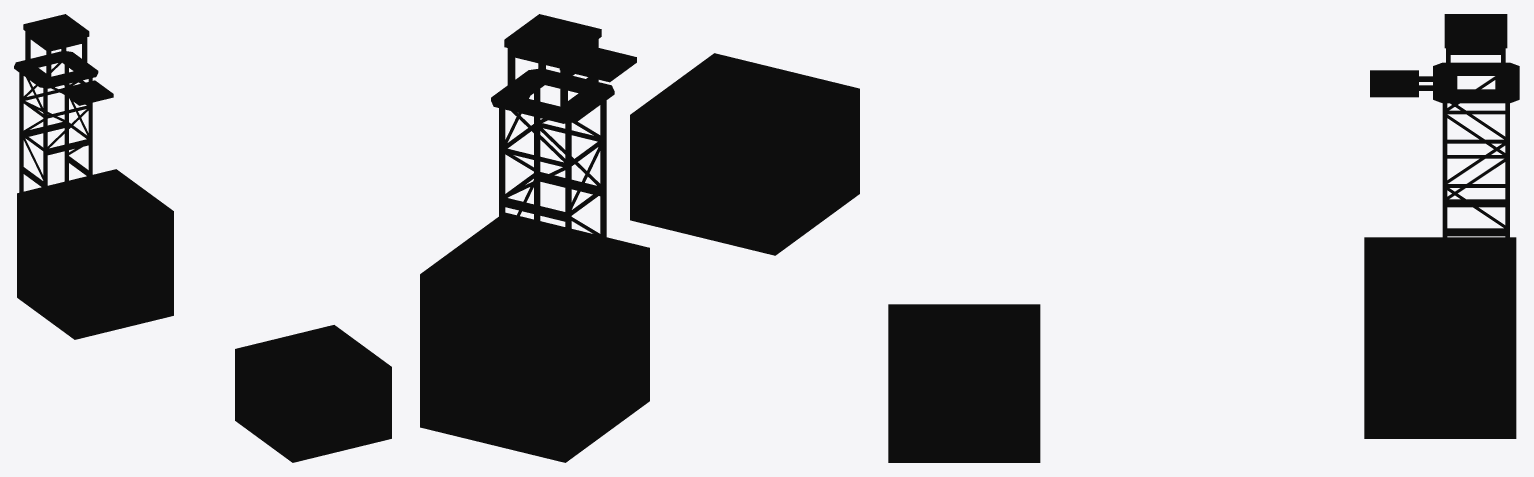
File: Chunk5.obj
3 views of the same model, side by side, from view 1: azimuth 30°, elevation 25°; view 2: azimuth 150°, elevation 25°; view 3: azimuth 270°, elevation 25° (orthographic). The views are drawn at different scales.
Size of the model in its own units: 285 by 527 by 831.
